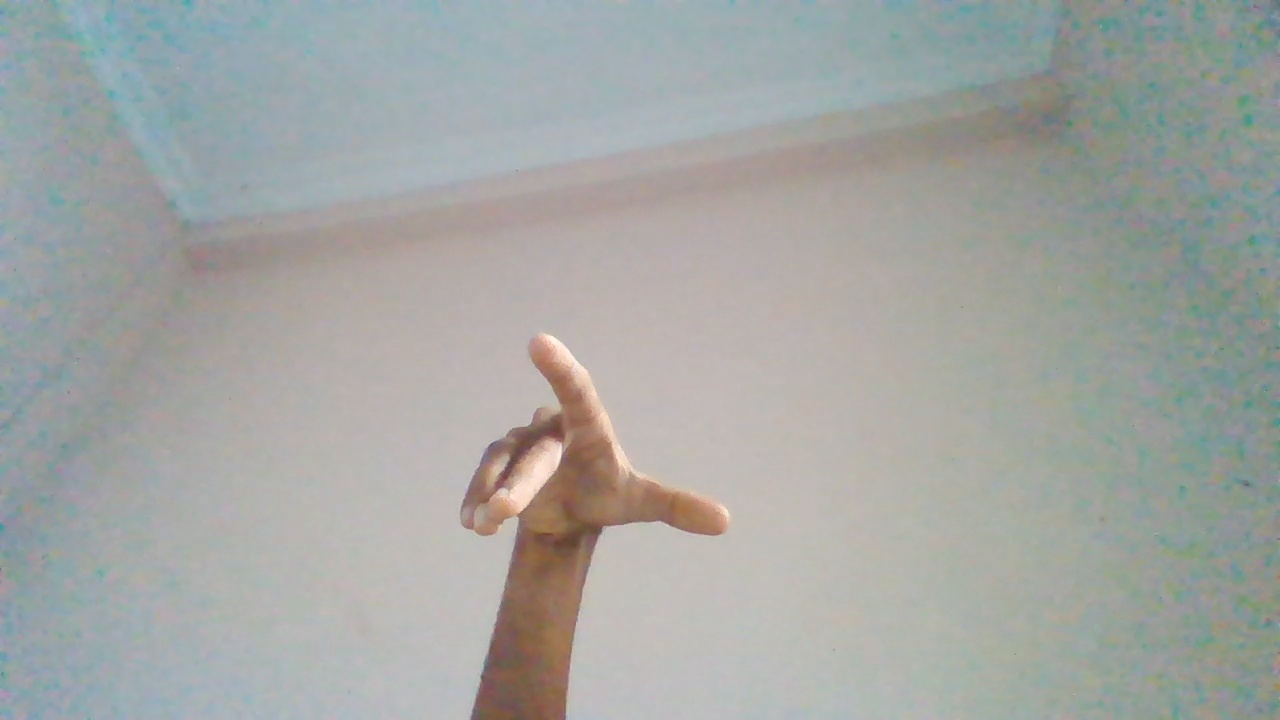ke: (461, 332, 731, 700)
